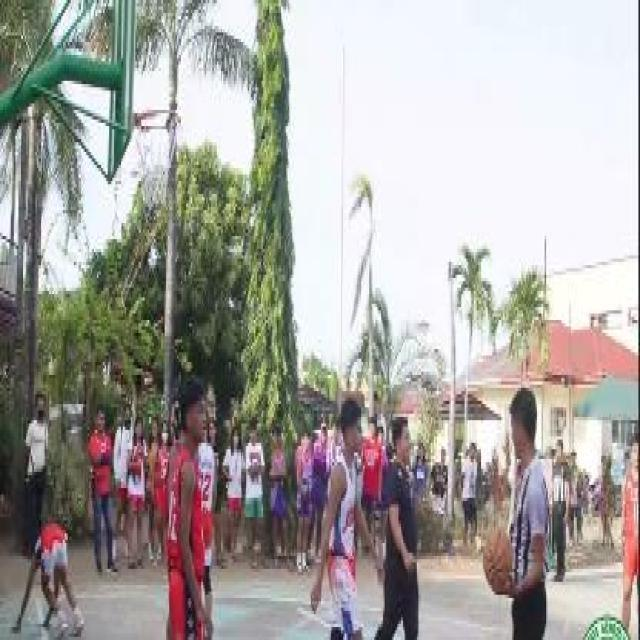ball: (482, 522, 516, 596)
hoop: (136, 107, 184, 132)
